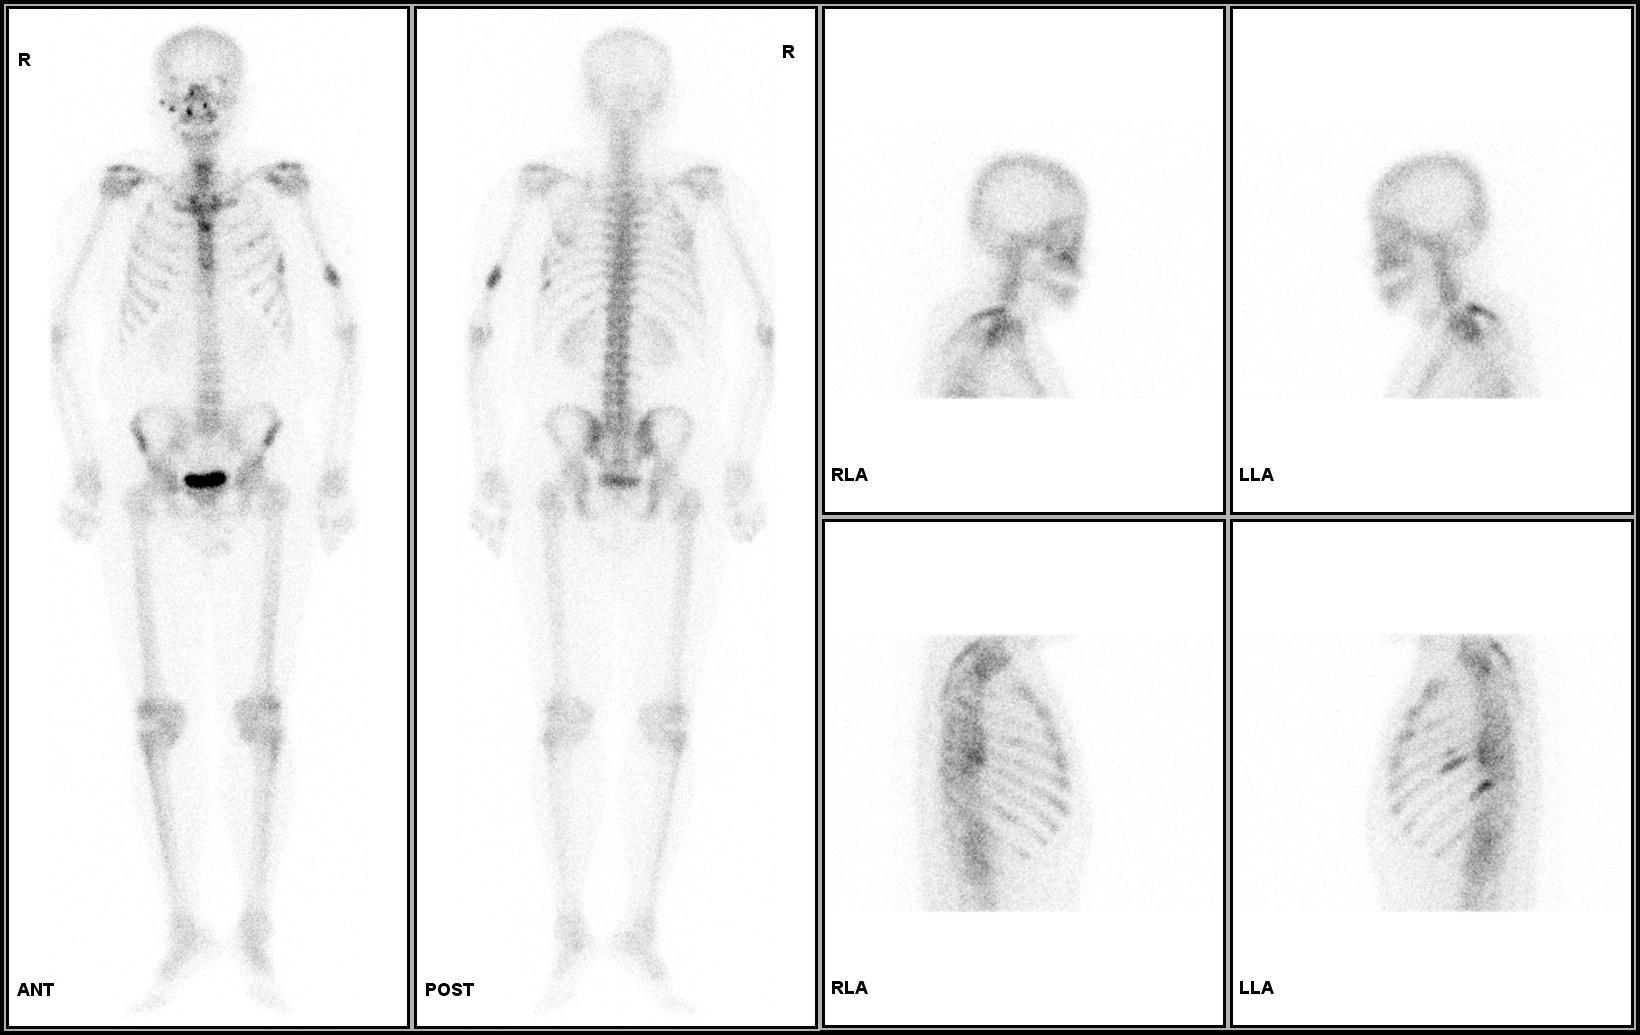person: (6, 8, 818, 1029)
